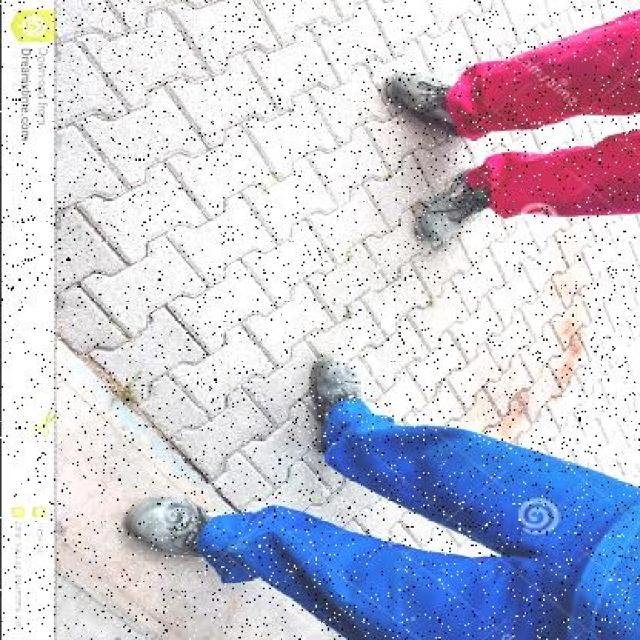shoes: (126, 485, 217, 566), (415, 161, 493, 253), (386, 59, 465, 144), (316, 351, 378, 414)
